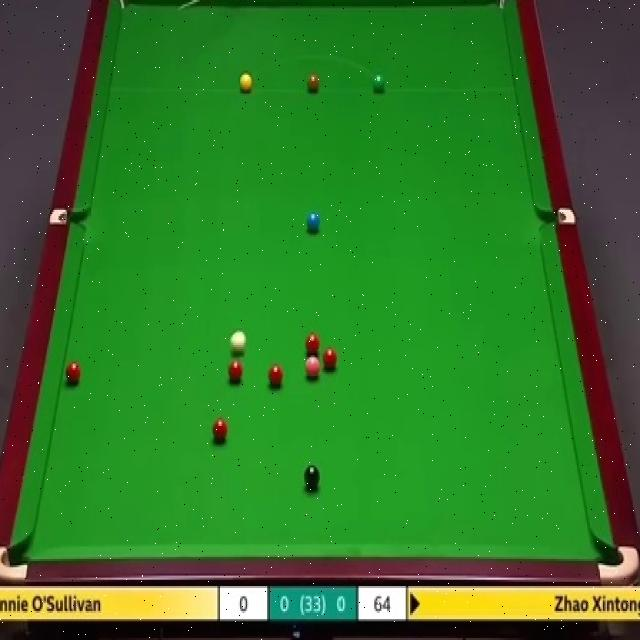black-ball: (304, 464, 321, 491)
blue-ball: (307, 211, 321, 234)
brown-ball: (306, 74, 320, 94)
green-ball: (373, 72, 385, 96)
pink-ball: (306, 355, 321, 379)
red-ball: (268, 363, 284, 392), (323, 347, 340, 374), (211, 418, 229, 443), (228, 358, 244, 386), (65, 360, 81, 387), (306, 331, 320, 357)
white-ball: (228, 327, 250, 355)
yellow-ball: (240, 71, 252, 92)
